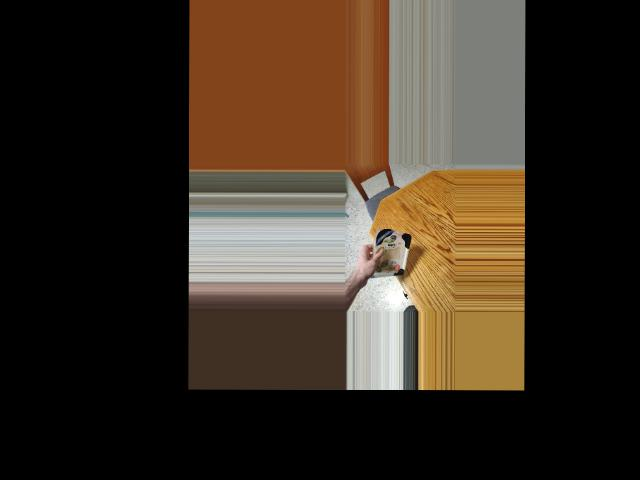cheese: (372, 226, 407, 284)
